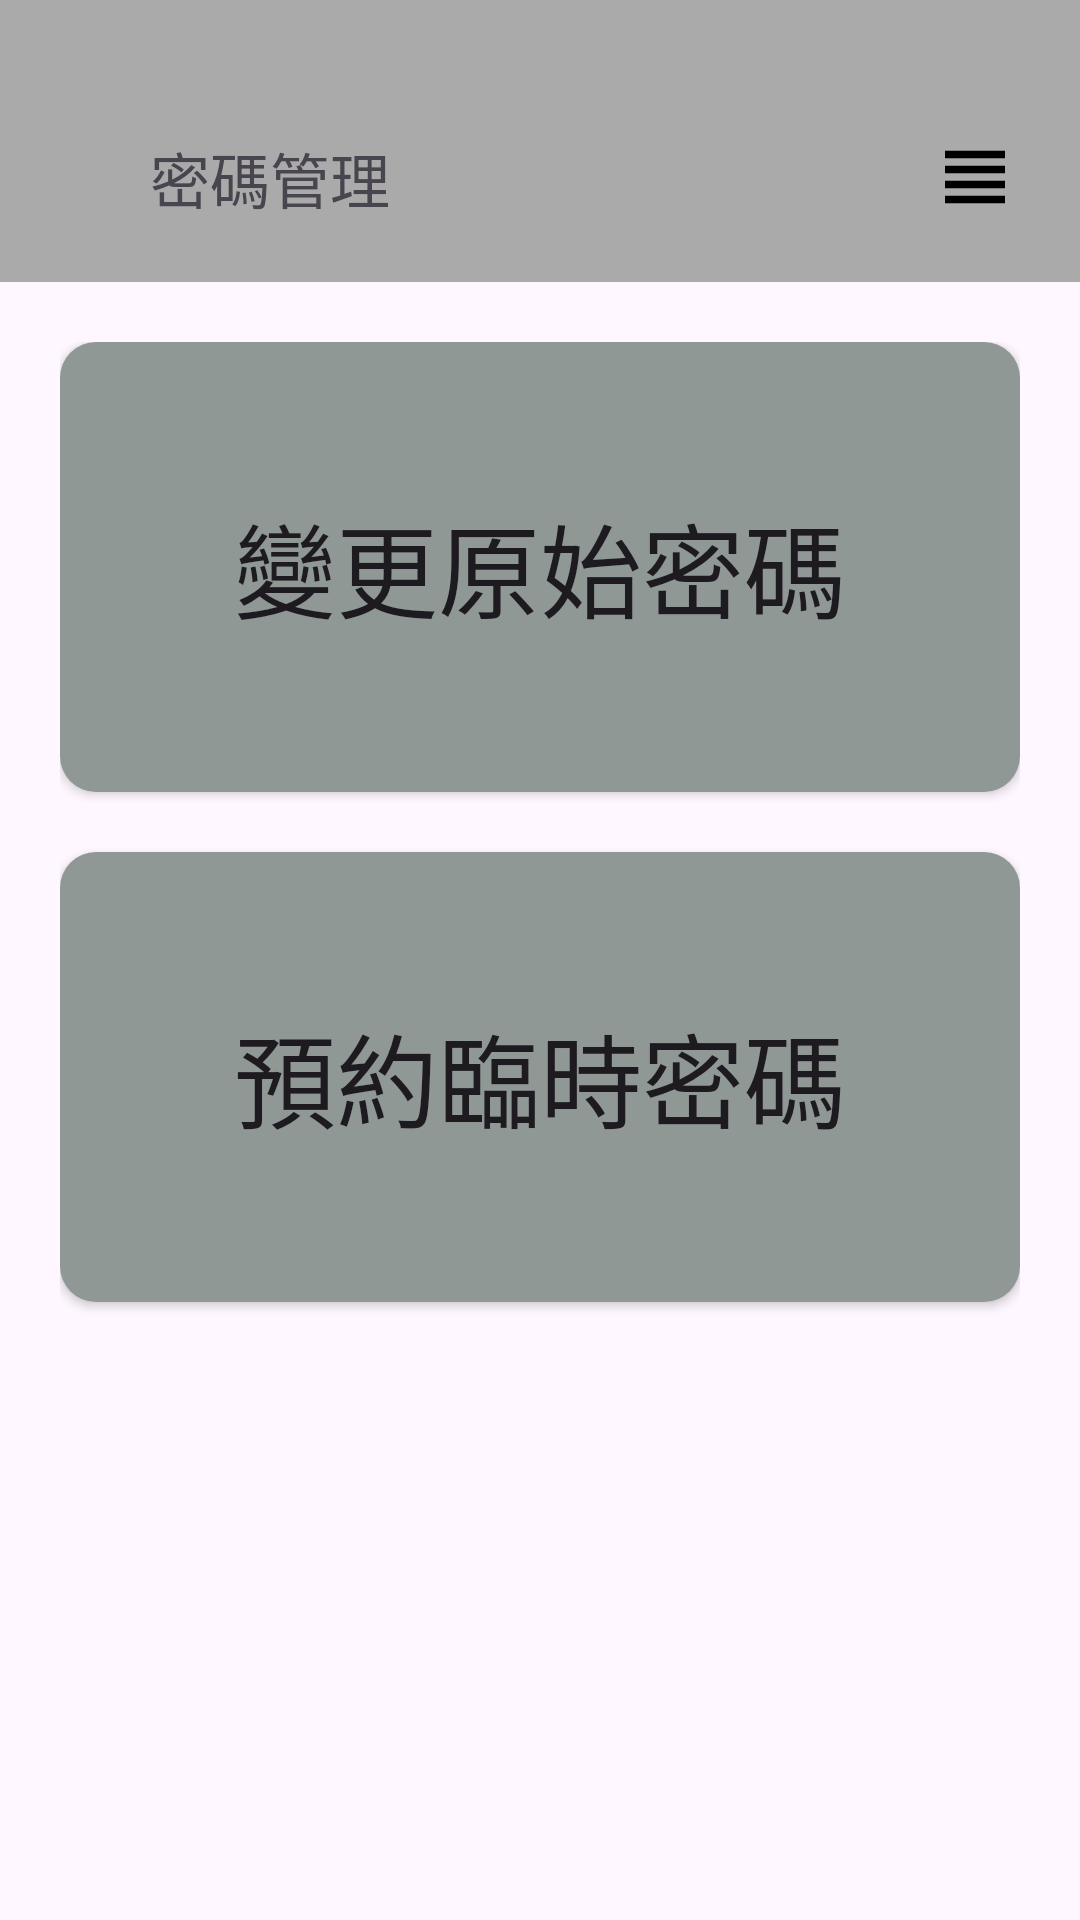

Icon click points for this 1080w x 1920h phone screenshot, format (x,y):
其他: (975,177)
